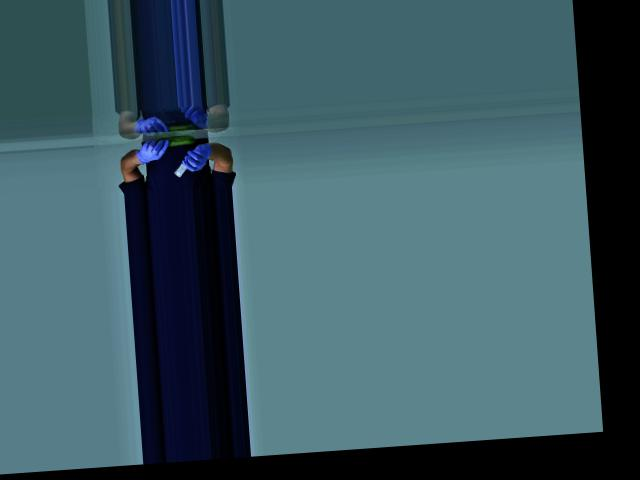cucumber: (156, 134, 196, 147)
